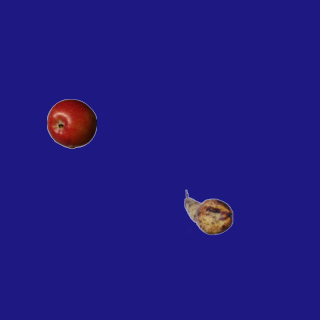Apple Braeburn: (46, 98, 96, 148)
Pear Abate: (183, 187, 233, 237)
